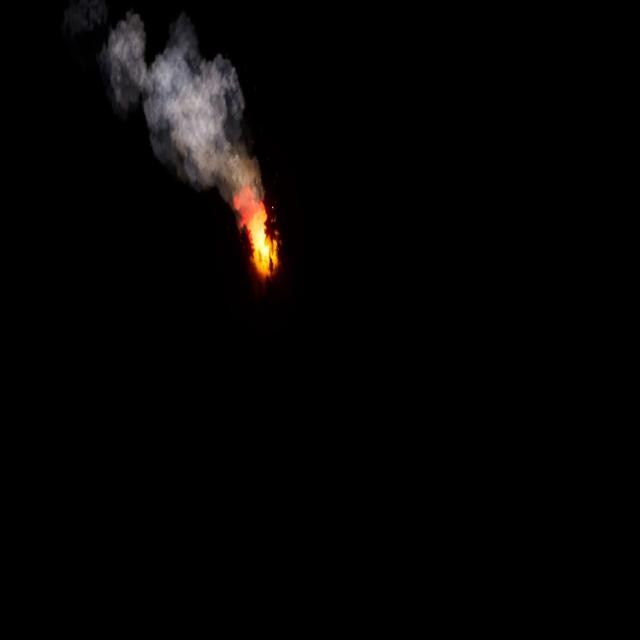fire: (241, 203, 282, 282)
smoke: (107, 8, 259, 215)
